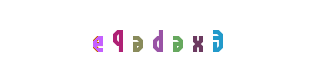3: (177, 0, 257, 80)
9: (76, 0, 156, 80)
A: (117, 0, 197, 80), (122, 0, 202, 80)
D: (118, 0, 198, 80)
E: (63, 0, 143, 80)
X: (158, 0, 238, 80)
